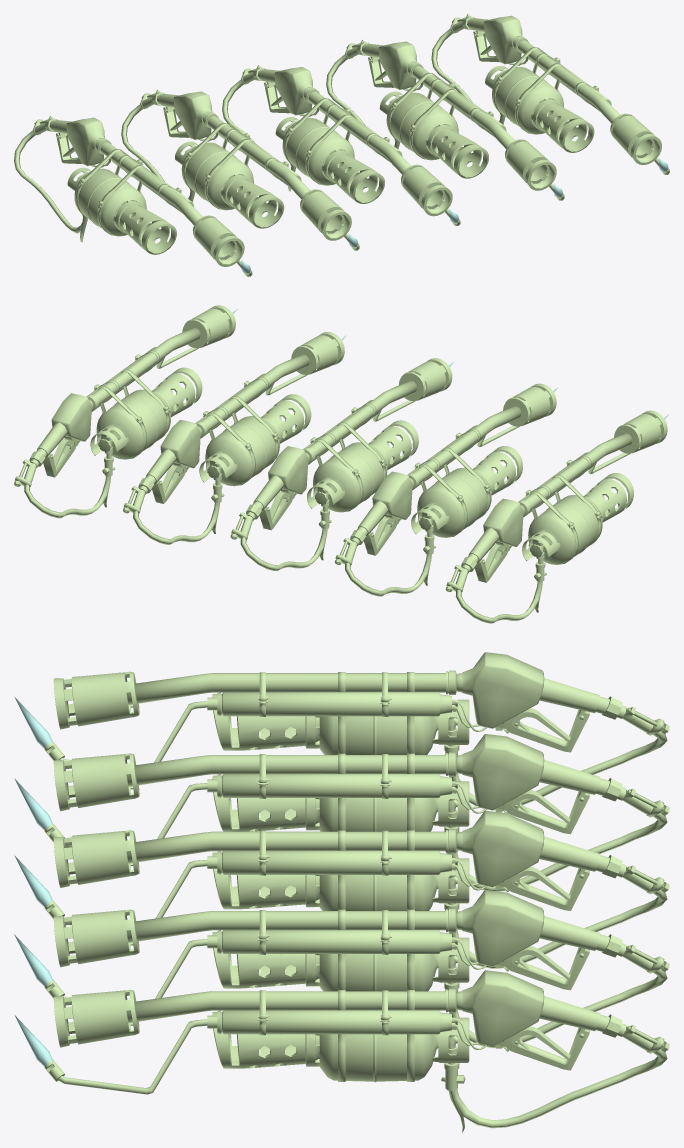
3 renders of one model, top to bottom at view 1: azimuth 30°, elevation 25°; view 2: azimuth 150°, elevation 25°; view 3: azimuth 270°, elevation 25°, orthographic. The views are drawn at different scales.
Parts seen in each view (by area): view 1: c_flamethrower_reference.010, c_flamethrower_reference.007, c_flamethrower_reference.011, c_flamethrower_reference.008, c_flamethrower_reference.009; view 2: c_flamethrower_reference.008, c_flamethrower_reference.011, c_flamethrower_reference.010, c_flamethrower_reference.007, c_flamethrower_reference.009; view 3: c_flamethrower_reference.011, c_flamethrower_reference.010, c_flamethrower_reference.008, c_flamethrower_reference.009, c_flamethrower_reference.007.
Boxes of the visible parts, x1=… form: c_flamethrower_reference.010: x1=14, y1=116, x2=252, y2=276; c_flamethrower_reference.007: x1=121, y1=90, x2=359, y2=250; c_flamethrower_reference.011: x1=431, y1=14, x2=669, y2=174; c_flamethrower_reference.008: x1=326, y1=40, x2=564, y2=200; c_flamethrower_reference.009: x1=222, y1=65, x2=460, y2=225; c_flamethrower_reference.008: x1=123, y1=332, x2=346, y2=544; c_flamethrower_reference.011: x1=14, y1=305, x2=237, y2=518; c_flamethrower_reference.010: x1=445, y1=410, x2=669, y2=623; c_flamethrower_reference.007: x1=334, y1=383, x2=558, y2=596; c_flamethrower_reference.009: x1=230, y1=358, x2=453, y2=571; c_flamethrower_reference.011: x1=14, y1=970, x2=669, y2=1132; c_flamethrower_reference.010: x1=14, y1=652, x2=669, y2=810; c_flamethrower_reference.008: x1=14, y1=890, x2=669, y2=1048; c_flamethrower_reference.009: x1=14, y1=811, x2=669, y2=968; c_flamethrower_reference.007: x1=14, y1=734, x2=669, y2=891.
Size of the model in its own units: 11976 by 2567 by 8878.
